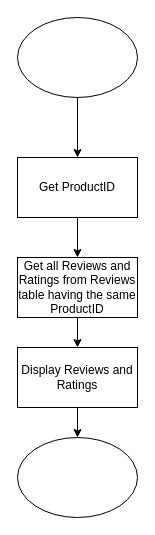
This 155x535 diagram has some shape labels left out. The centre of each missing label's shape, as x and y in pixels:
END: point (77, 477)
Start: point (77, 57)
